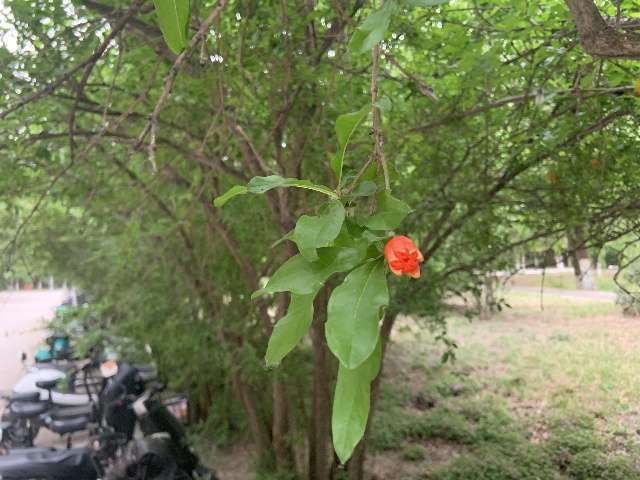flower: (384, 235, 423, 277)
